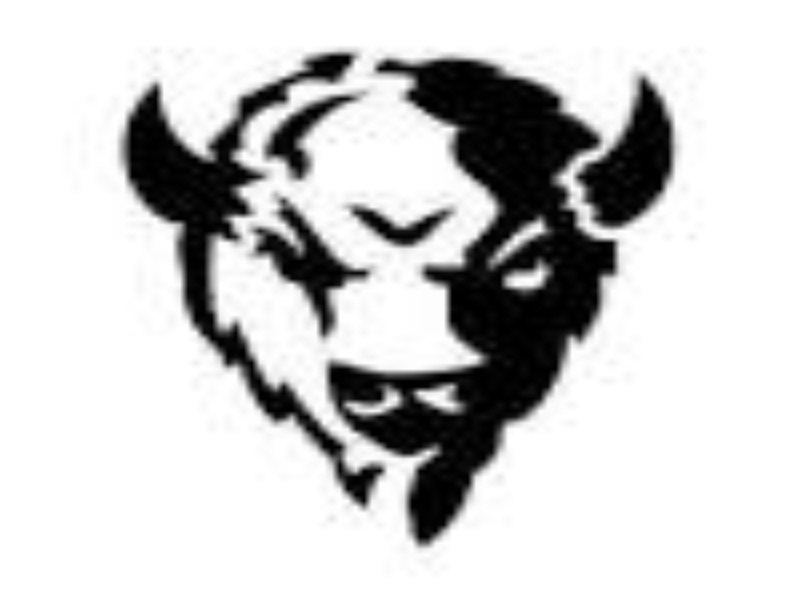buffalo: (103, 33, 686, 556)
